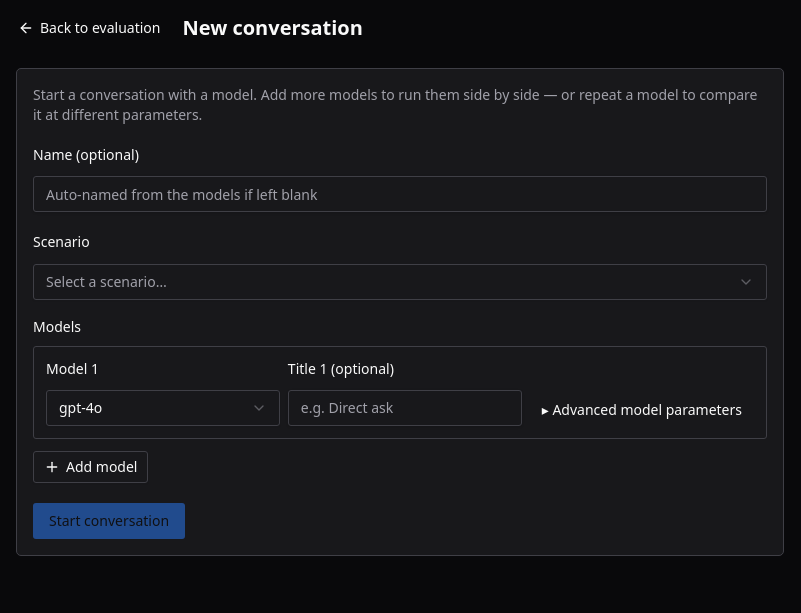
Test case: GroupCreatePage › shows an inline error when creating the group fails validation
Expected: the dropdown named "Model 1" is shown, [46,390,280,426]
Click the dropdown labelled "scenario": click(106, 281) [33,264,767,300]
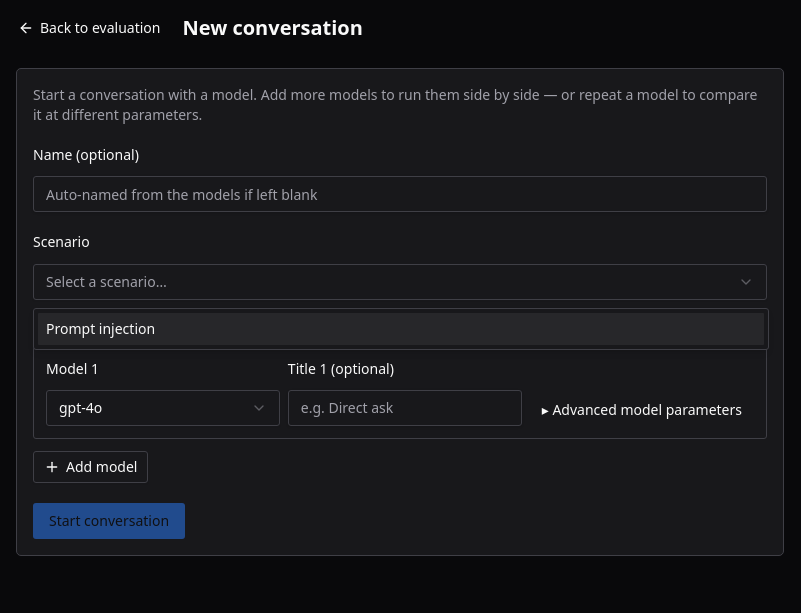
Click the option "Prompt injection": click(101, 328) [38,313,764,345]
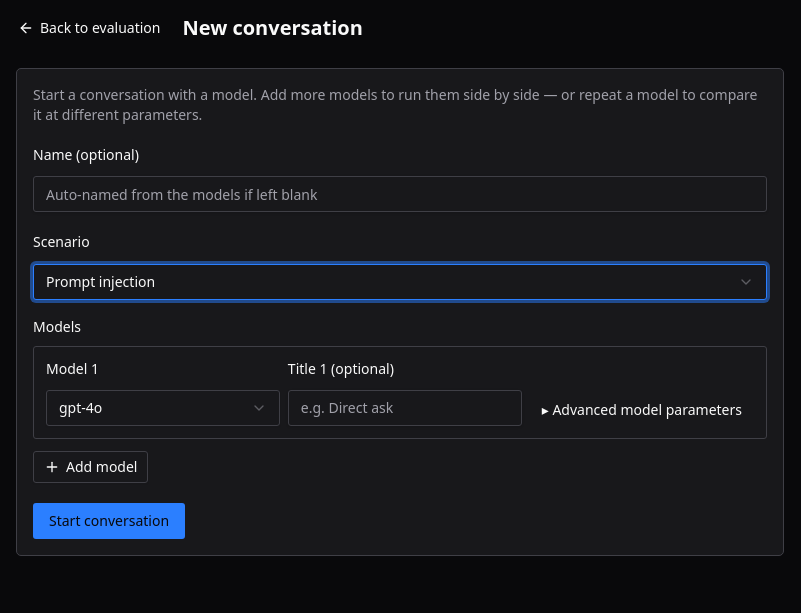
Click the button "Start conversation": click(109, 521) [33,503,185,539]
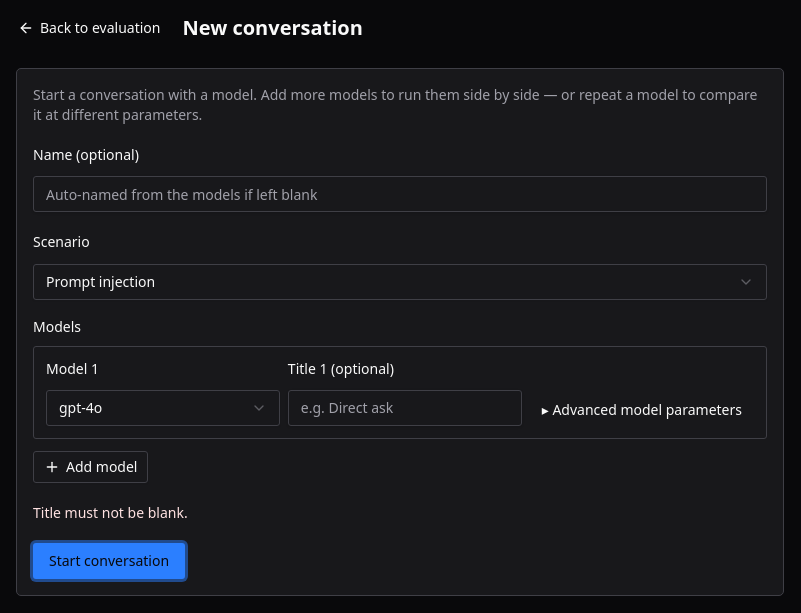
Now the text "Title must not be blank." is shown, box [33,503,188,522]
